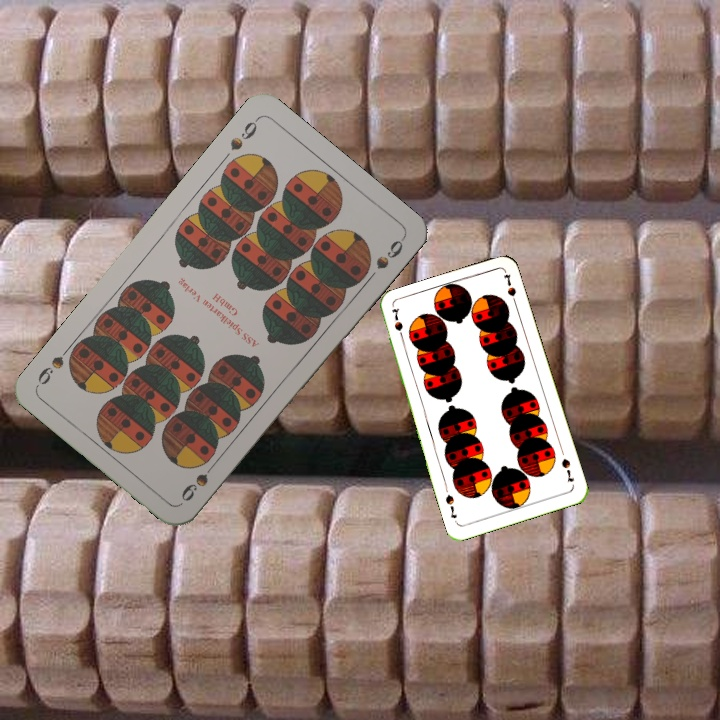S7: (388, 304, 406, 345), (557, 454, 577, 485)
S9: (176, 456, 220, 505), (226, 114, 262, 153)
